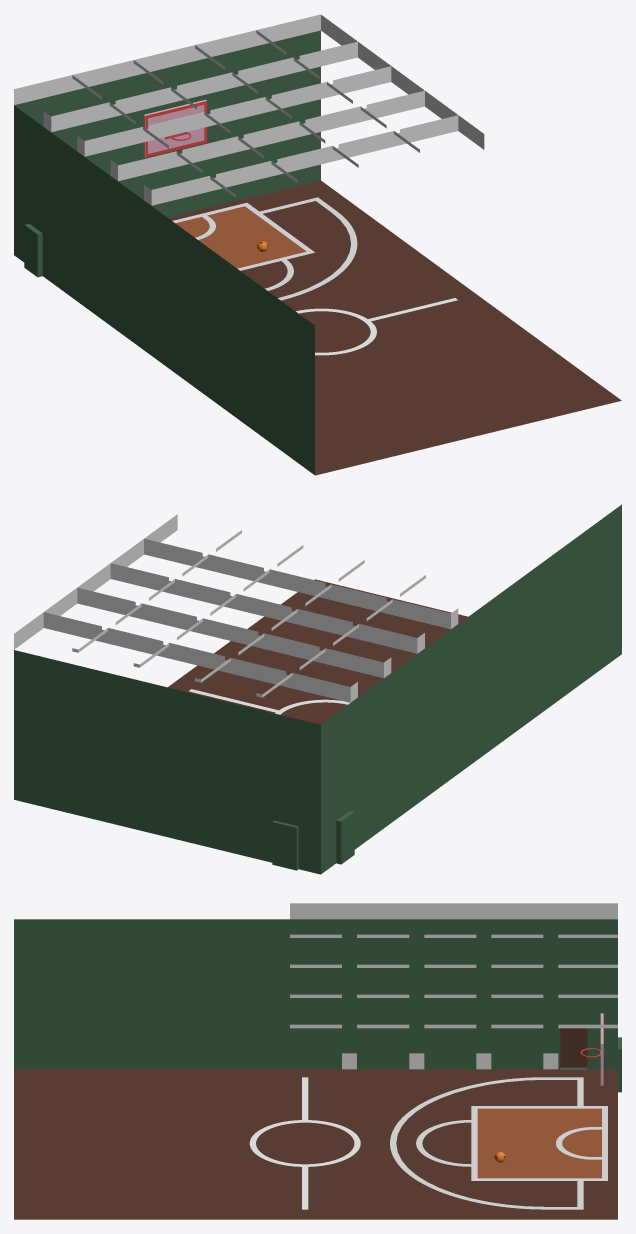
File: basketball_court3.glb
3 views of the same model, one above another, from view 1: azimuth 30°, elevation 25°; view 2: azimuth 150°, elevation 25°; view 3: azimuth 270°, elevation 25° (orthographic).
Visible parts, largest first — view 1: ground, wall1, ceiling, wall2, groundClearer, courtLinesBasket, basketPannelBase, courtLinesCenter; view 2: wall2, wall1, ceiling, ground, courtLinesCenter; view 3: wall1, ground, ceiling, groundClearer, courtLinesBasket, courtLinesCenter, door1.
Part boxes in pixels (bbox=[...]): ground: bbox=[168, 180, 621, 475]; wall1: bbox=[14, 105, 314, 474]; ceiling: bbox=[14, 14, 484, 205]; wall2: bbox=[14, 30, 320, 217]; groundClearer: bbox=[175, 206, 306, 268]; courtLinesBasket: bbox=[172, 197, 357, 300]; basketPannelBase: bbox=[143, 100, 206, 157]; courtLinesCenter: bbox=[296, 298, 457, 355]; wall2: bbox=[14, 650, 320, 874]; wall1: bbox=[321, 504, 621, 873]; ceiling: bbox=[14, 514, 458, 702]; ground: bbox=[168, 579, 467, 724]; courtLinesCenter: bbox=[189, 689, 350, 714]; wall1: bbox=[14, 919, 617, 1069]; ground: bbox=[14, 1069, 617, 1219]; ceiling: bbox=[290, 903, 617, 1069]; groundClearer: bbox=[477, 1108, 601, 1178]; courtLinesBasket: bbox=[390, 1077, 607, 1209]; courtLinesCenter: bbox=[249, 1077, 360, 1209]; door1: bbox=[560, 1028, 587, 1067].
Bounding box in the file's own units: 15.25 × 7.75 × 25.67.
Materials: 7 (1 with a texture image).
